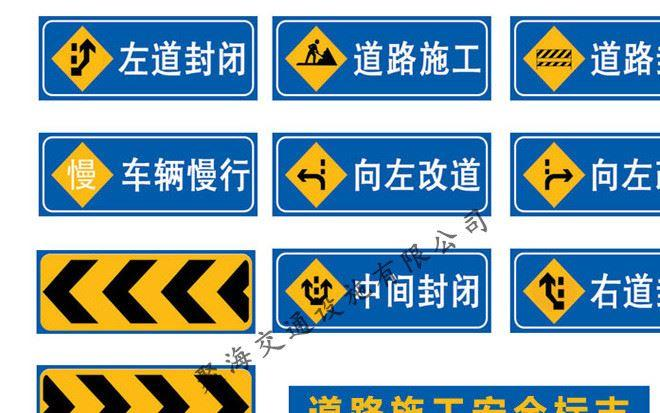sign: (40, 252, 254, 332), (42, 136, 254, 215), (41, 19, 255, 97), (277, 21, 490, 98), (274, 136, 487, 212), (515, 137, 658, 212)
